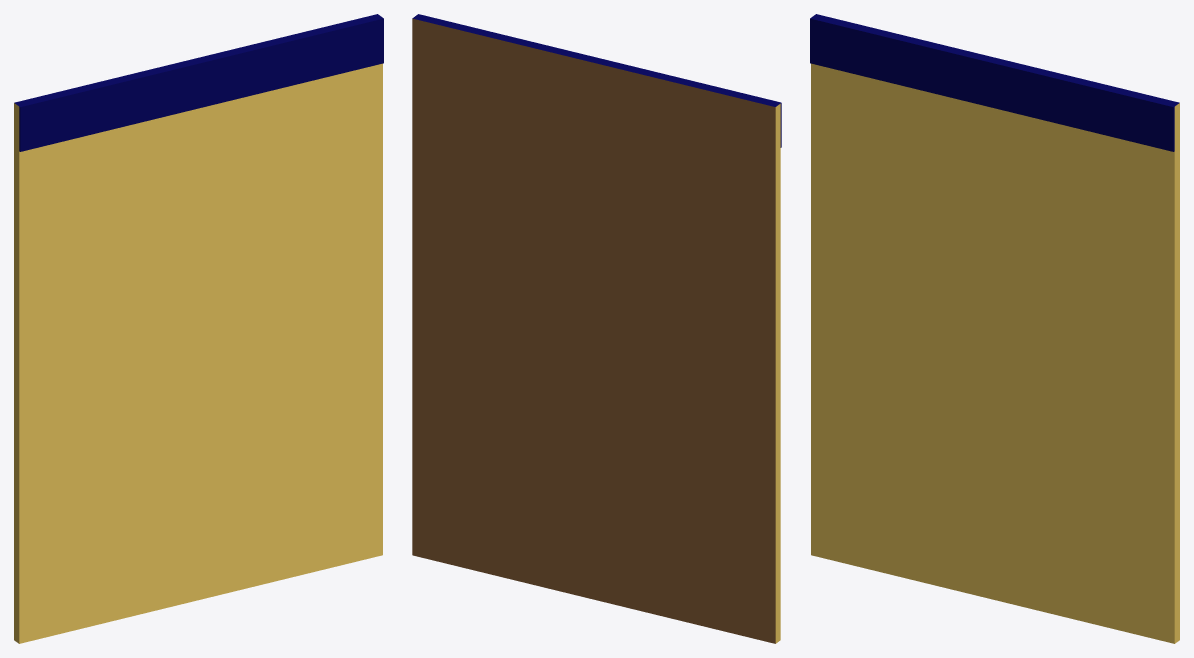
3 renders of one model, left to right at view 1: azimuth 30°, elevation 25°; view 2: azimuth 150°, elevation 25°; view 3: azimuth 330°, elevation 25°, orthographic.
Visible parts, largest first — view 1: notepad; view 2: notepad; view 3: notepad.
Part boxes in pixels (<box>): notepad: <box>14,14,383,643</box>; notepad: <box>412,14,781,643</box>; notepad: <box>810,14,1179,643</box>.
Size of the model in its own units: 8.5 by 12 by 0.25.
